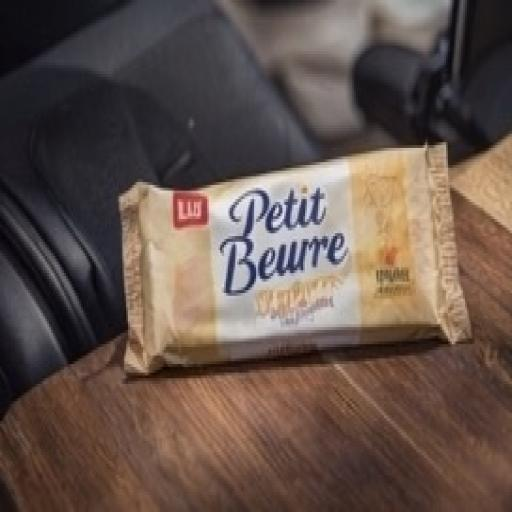petit_beurre: (104, 108, 497, 404)
